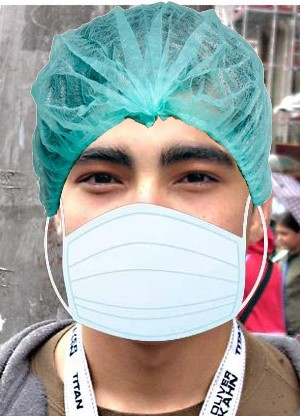with_mask_and_cap: (35, 4, 270, 345)
